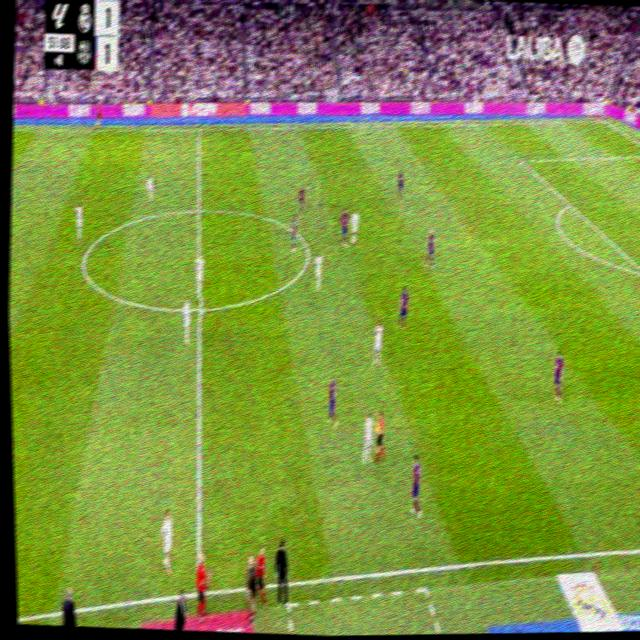bigarea_top_inner: (518, 153, 527, 167)
bottom_arc_area_intersection: (638, 262, 640, 280)
corner: (599, 116, 608, 126)
halfcircle_bottom: (193, 297, 207, 322)
halfcircle_top: (191, 197, 206, 221)
midline_top_intersection: (194, 122, 205, 135)
top_arc_area_intersection: (565, 196, 573, 210)
